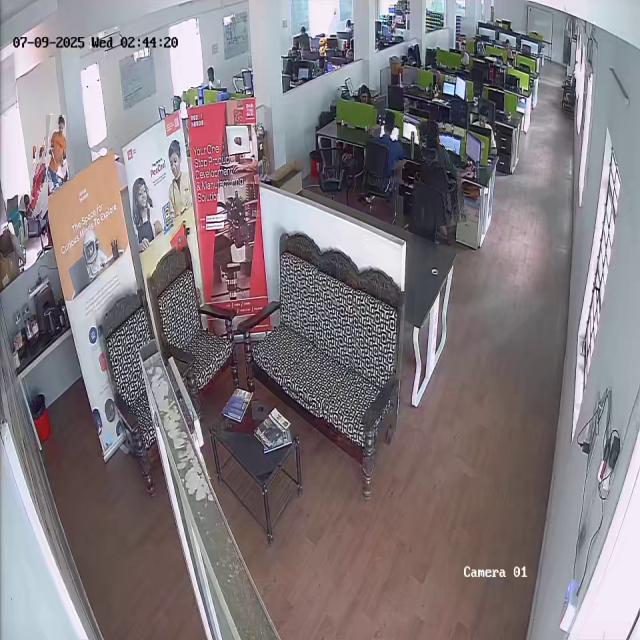person: (420, 118, 465, 226), (364, 109, 402, 192), (29, 146, 52, 220), (46, 115, 66, 182)
